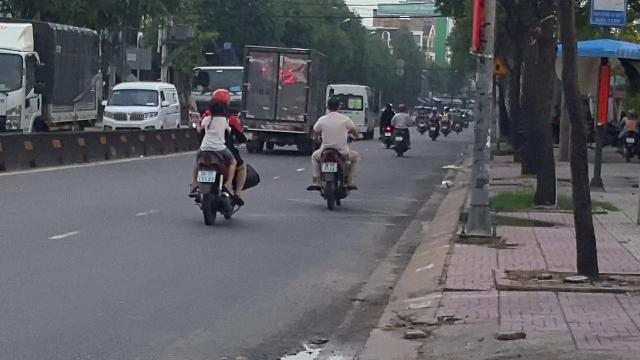helmet: (211, 88, 233, 104)
licenseplate: (197, 170, 215, 182), (321, 162, 337, 172)
motorcyclist: (185, 88, 255, 224), (305, 96, 359, 208)
nohelmet: (206, 99, 227, 123), (325, 97, 341, 113)
